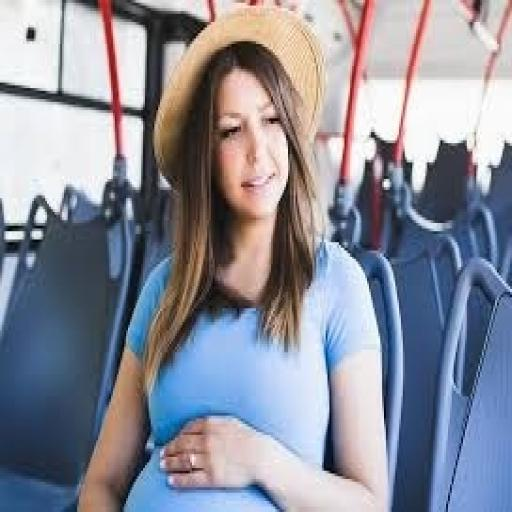sitting: (74, 6, 392, 509)
